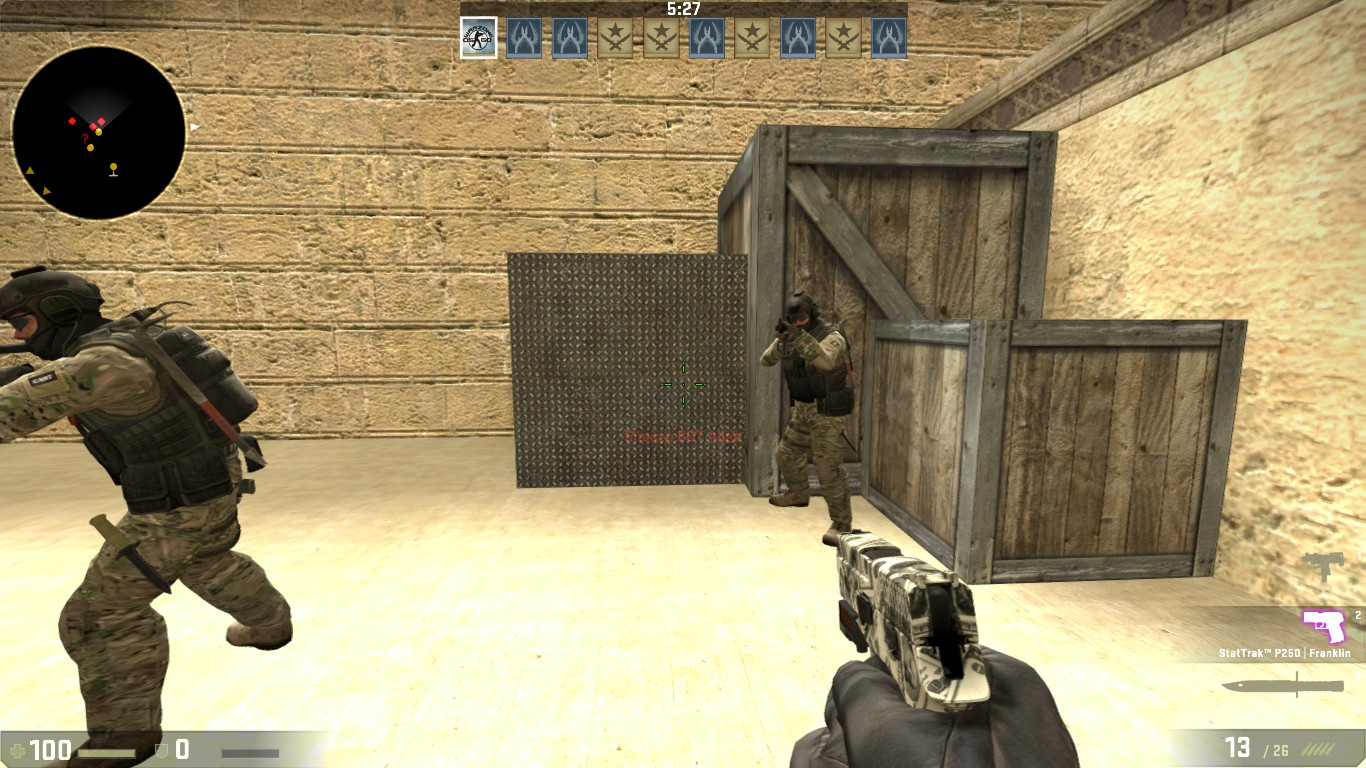c: (1, 259, 264, 763), (767, 294, 855, 531)
ch: (1, 257, 114, 372), (780, 291, 824, 330)
